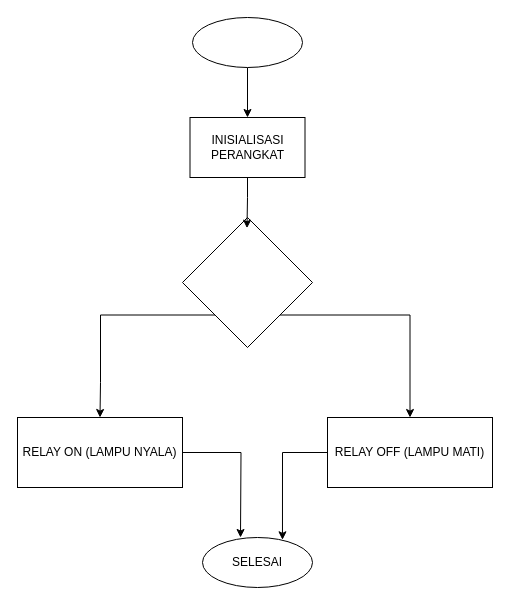
Some shapes in this 510 by 605 pixel diagram are drawn without their labels. Here are the shapes that lost their labels. From the top down, the centre of each, then its label:
(x=247, y=42): MULAI
(x=247, y=282): INISIALISASI WEB (ON/OFF)
